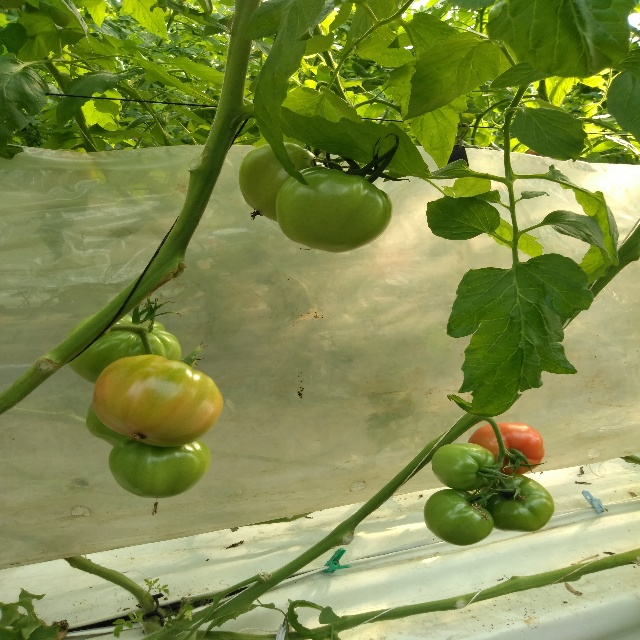b_green: (275, 166, 393, 254), (64, 310, 182, 384), (239, 142, 327, 223), (108, 438, 211, 499), (479, 474, 555, 532), (423, 489, 494, 546), (432, 442, 497, 491), (86, 402, 127, 447)
b_half_ripened: (92, 355, 224, 447), (468, 422, 544, 476)
